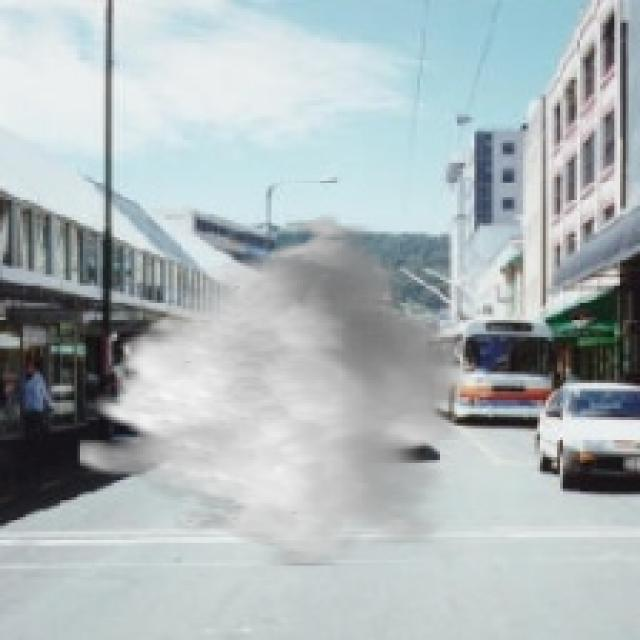Smoke: (77, 208, 472, 566)
